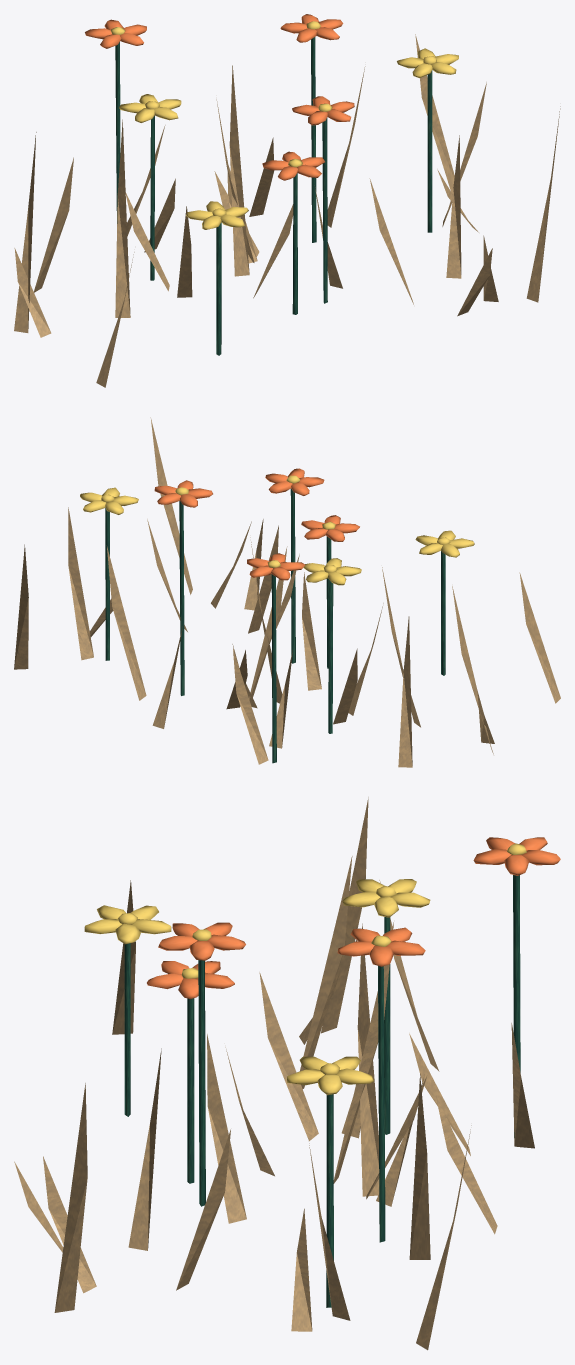
The model's file is flowers.glb.
3 views of the same model, one above another, from view 1: azimuth 30°, elevation 25°; view 2: azimuth 150°, elevation 25°; view 3: azimuth 270°, elevation 25° (orthographic). The views are drawn at different scales.
Visible parts, largest first — view 1: flowers; view 2: flowers; view 3: flowers.
Part boxes in pixels (x1,y1,x2,y2): flowers: (14,14,560,387); flowers: (14,417,560,767); flowers: (14,797,560,1350).
Size of the model in its own units: 0.8689 by 0.3823 by 0.6224.
1 material, 1 textured.
